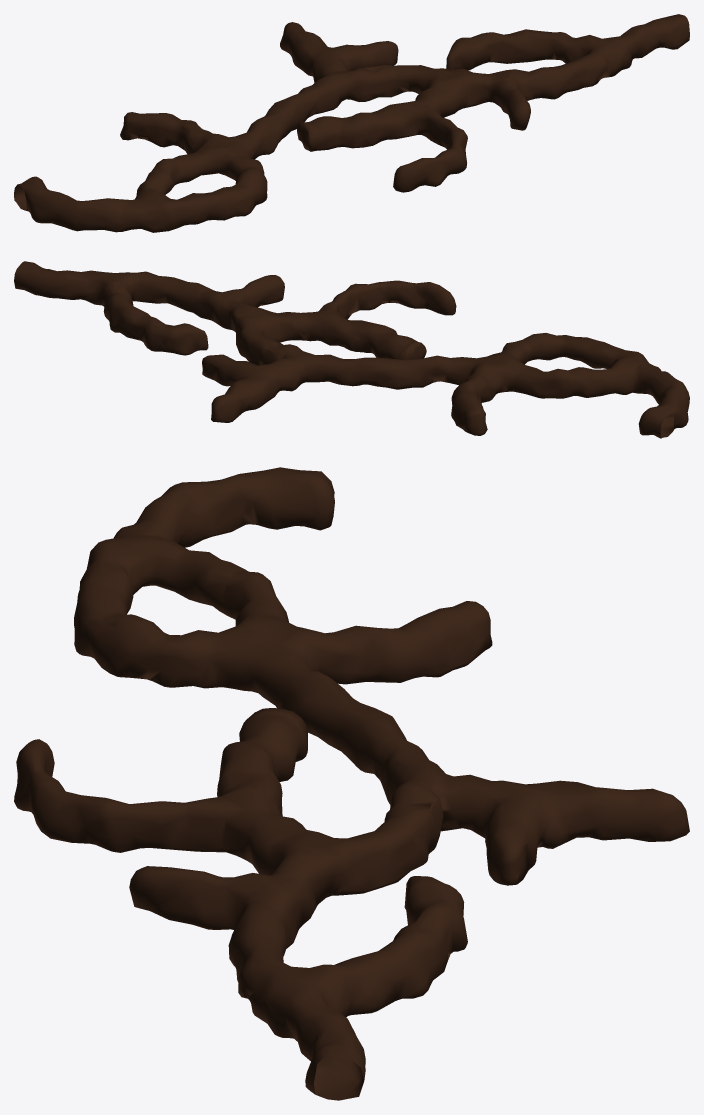
The model's file is cave8.fbx.
3 renders of one model, top to bottom at view 1: azimuth 30°, elevation 25°; view 2: azimuth 150°, elevation 25°; view 3: azimuth 270°, elevation 25°, orthographic. The views are drawn at different scales.
Visible parts, largest first — view 1: Cube.001; view 2: Cube.001; view 3: Cube.001.
Part boxes in pixels (left/top/right/bottom): Cube.001: left=14, top=14, right=689, bottom=232; Cube.001: left=14, top=261, right=689, bottom=438; Cube.001: left=14, top=467, right=689, bottom=1100.
Size of the model in its own units: 22780 by 1000 by 10959.
